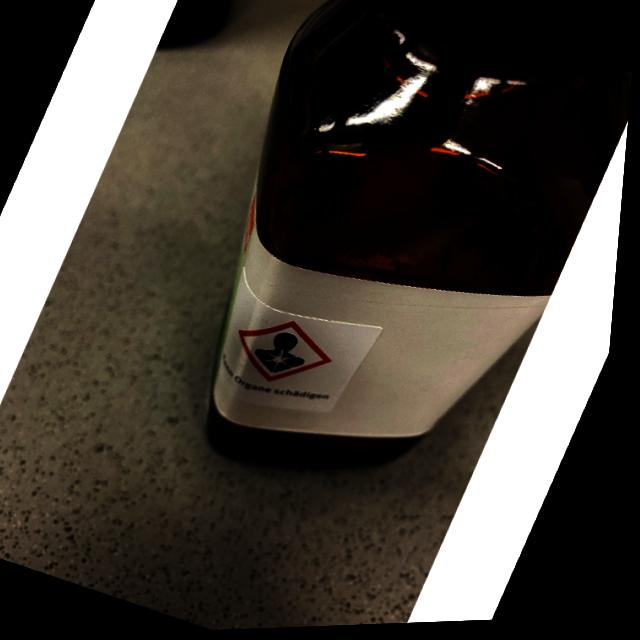serious health hazard: (228, 305, 350, 401)
